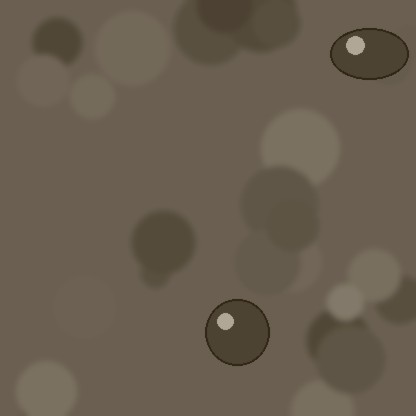gota: (205, 301, 269, 371), (330, 30, 408, 84)
